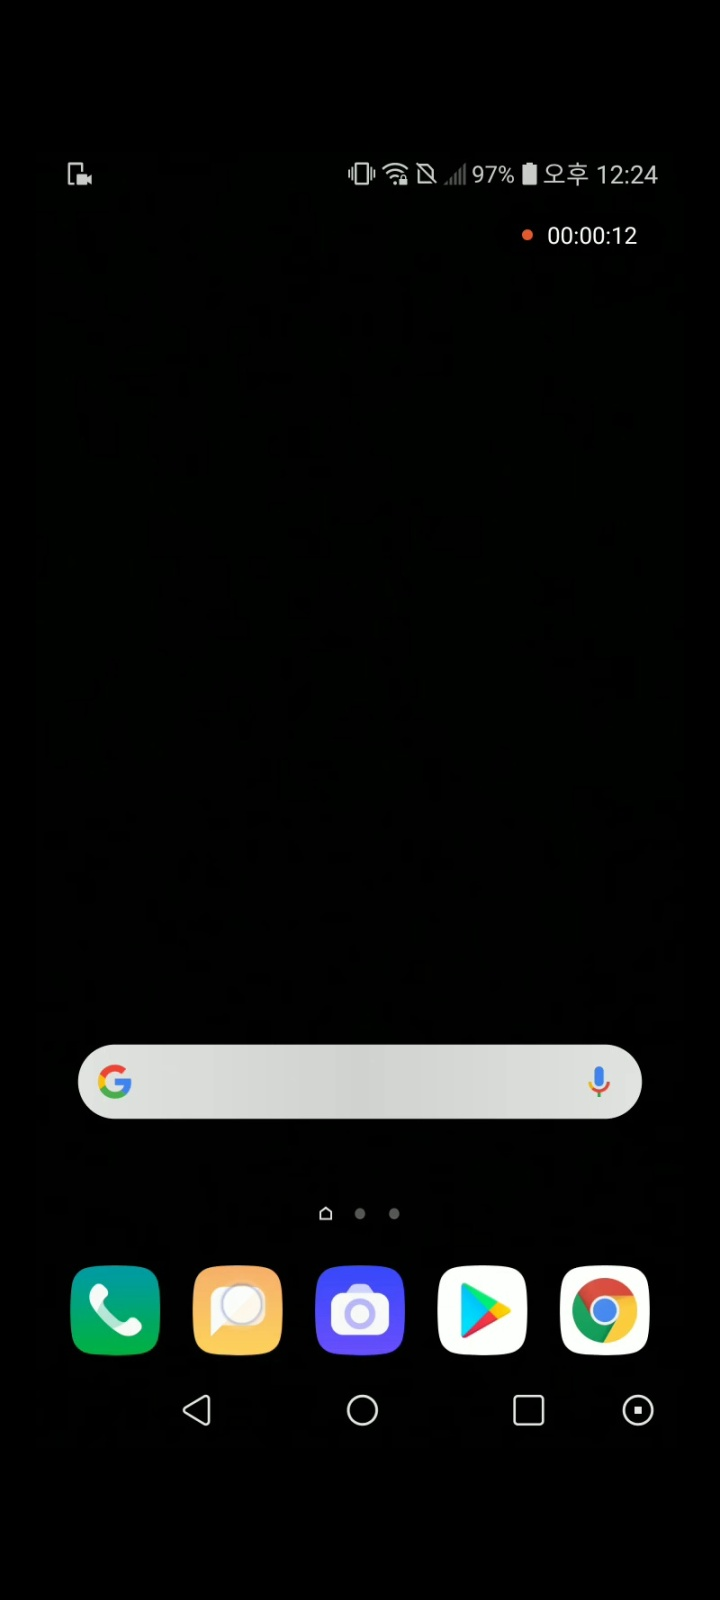Cursor: (220, 1283, 265, 1328)
